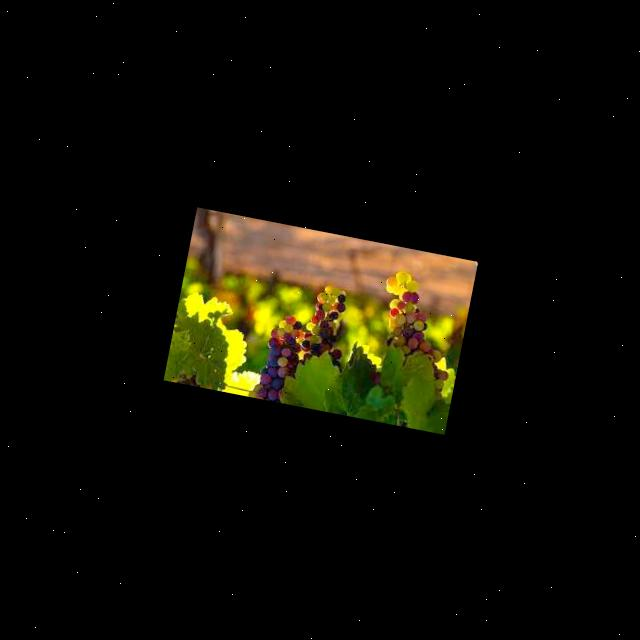grape: (252, 272, 358, 412)
